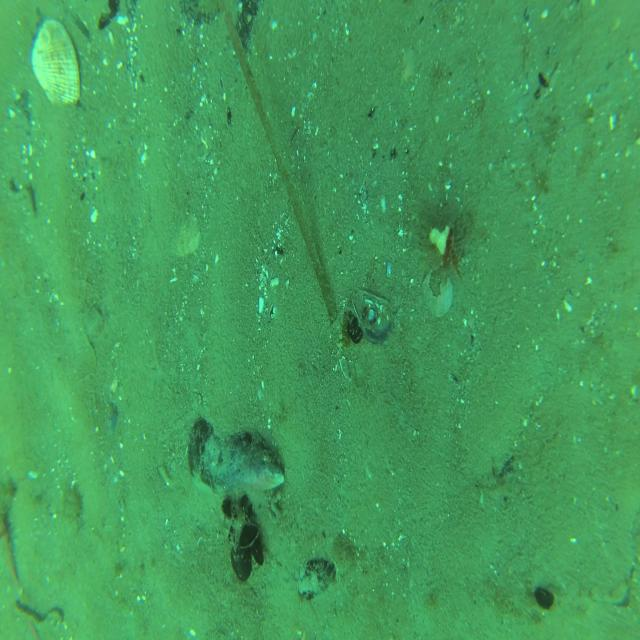scallop: (31, 17, 80, 108)
